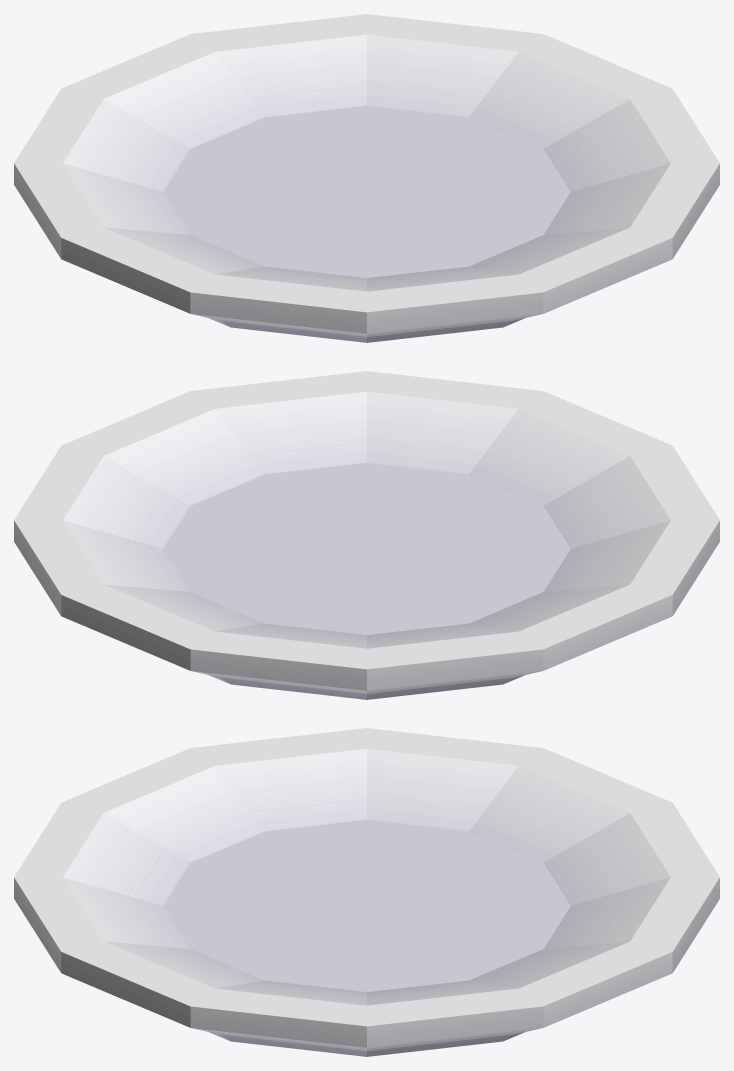
The model's file is Plate.obj.
3 views of the same model, one above another, from view 1: azimuth 30°, elevation 25°; view 2: azimuth 150°, elevation 25°; view 3: azimuth 270°, elevation 25° (orthographic).
Visible parts, largest first — view 1: plate; view 2: plate; view 3: plate.
Part boxes in pixels (<box>): plate: <box>14,14,719,342</box>; plate: <box>14,371,719,699</box>; plate: <box>14,728,719,1056</box>.
Size of the model in its own units: 0.8918 by 0.09 by 0.8918.
Materials: 1 (1 with a texture image).
